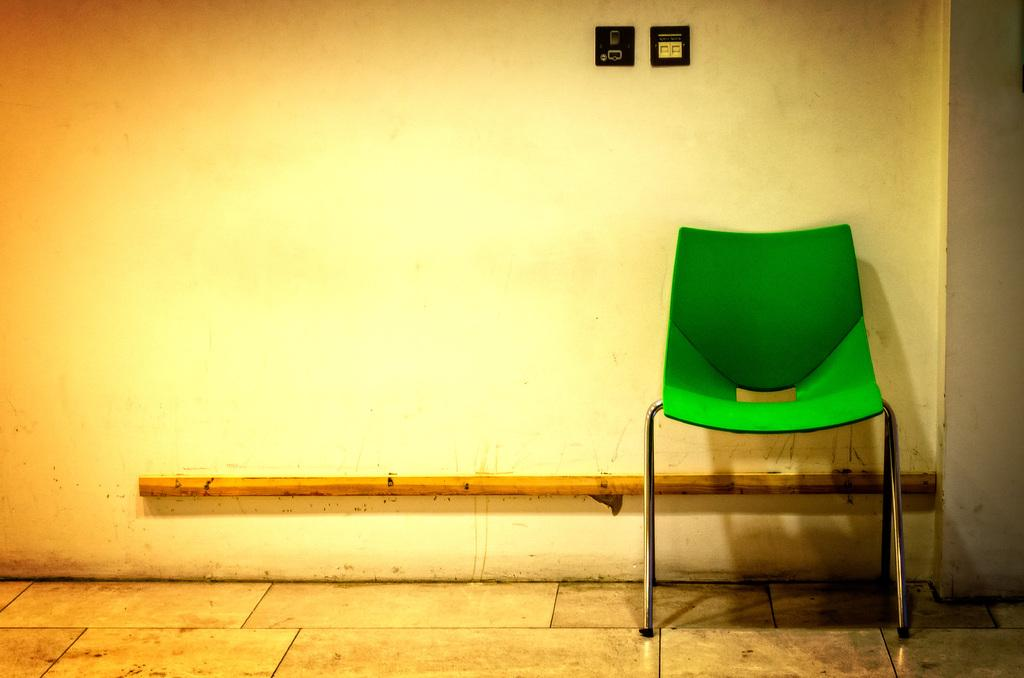Chair: (583, 232, 912, 642)
